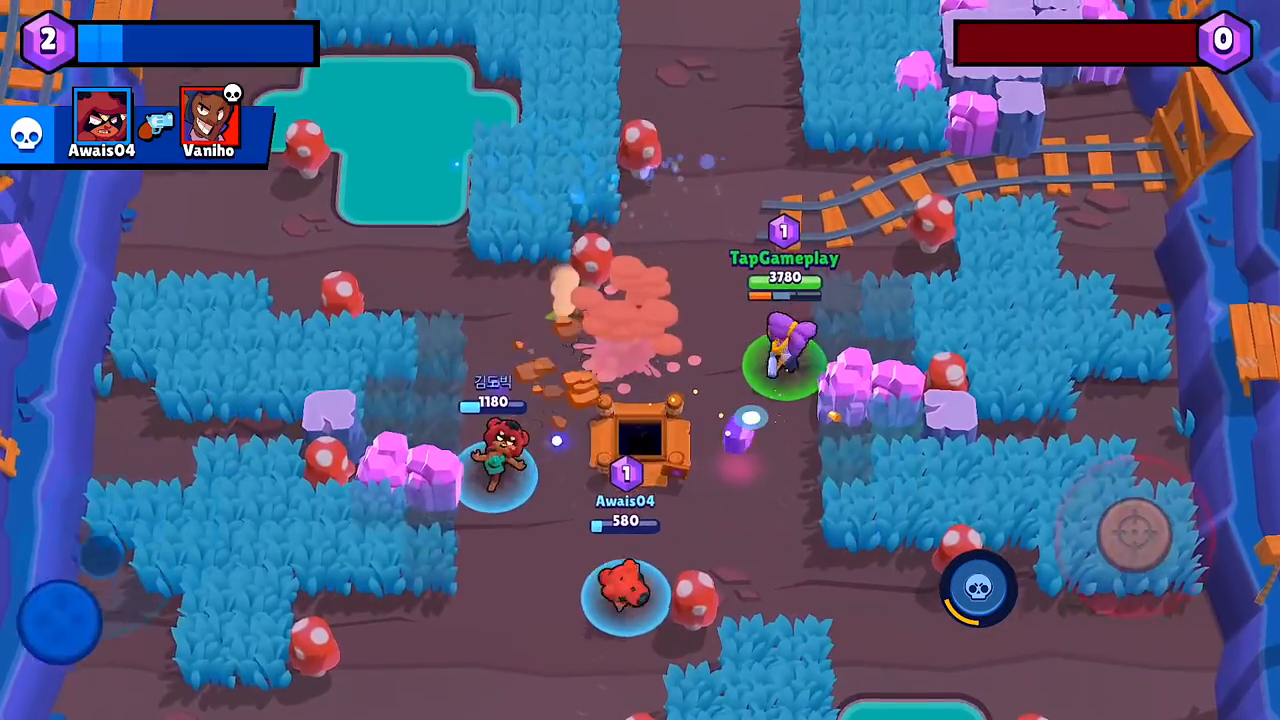move_stick: (22, 588, 111, 648)
